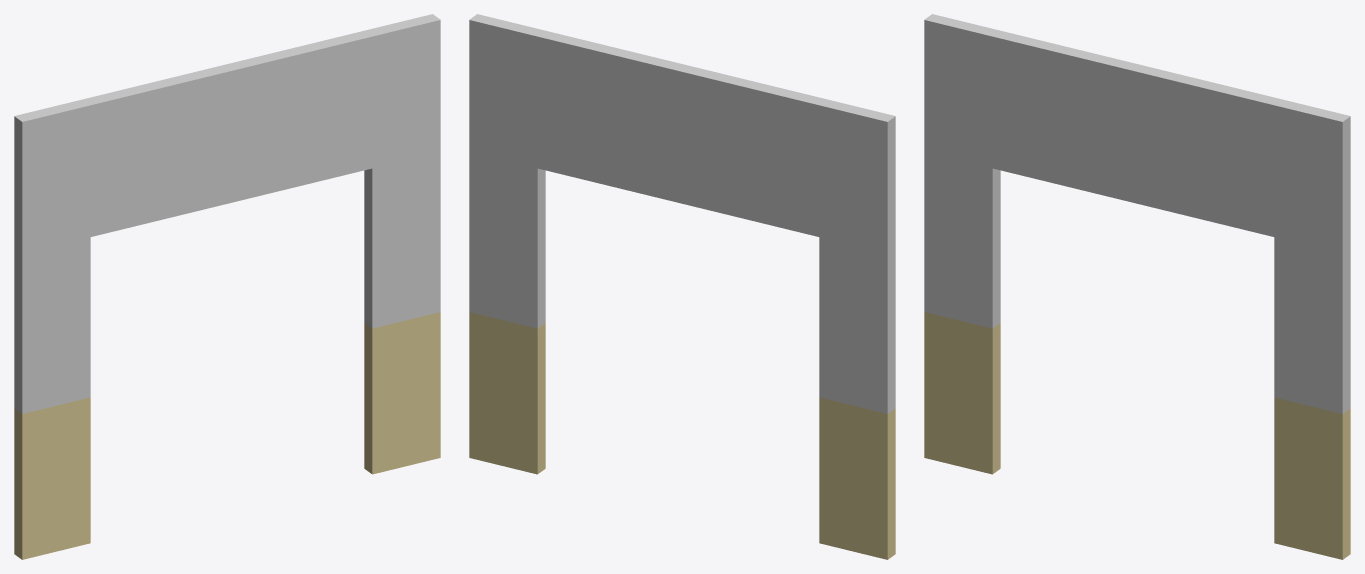
The model's file is Mesh_Wall2Colors_G4.fbx.
3 views of the same model, side by side, from view 1: azimuth 30°, elevation 25°; view 2: azimuth 150°, elevation 25°; view 3: azimuth 330°, elevation 25° (orthographic).
Parts seen in each view (by area): view 1: Mesh_Wall2Colors_G4; view 2: Mesh_Wall2Colors_G4; view 3: Mesh_Wall2Colors_G4.
Part boxes in pixels (x1,y1,x2,y2): Mesh_Wall2Colors_G4: (14, 14, 440, 559); Mesh_Wall2Colors_G4: (469, 14, 895, 559); Mesh_Wall2Colors_G4: (924, 14, 1350, 559).
Bounding box in the file's own units: 3 × 3 × 0.1.
